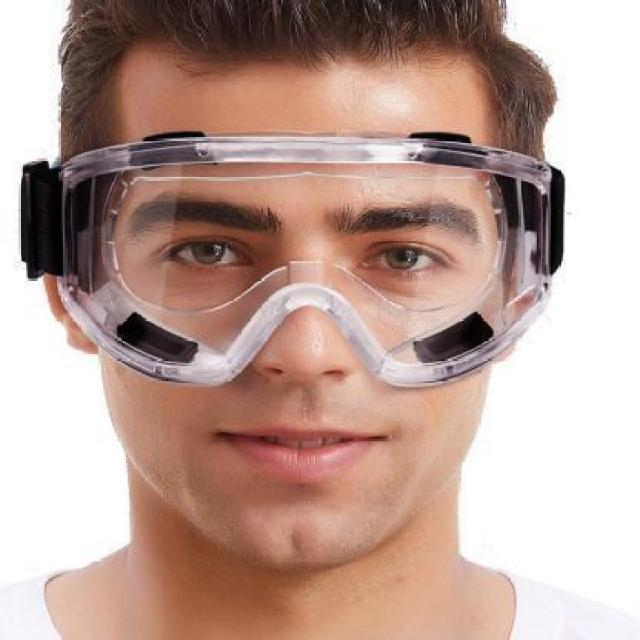face_nomask: (152, 215, 456, 512)
glasses: (19, 138, 567, 390)
